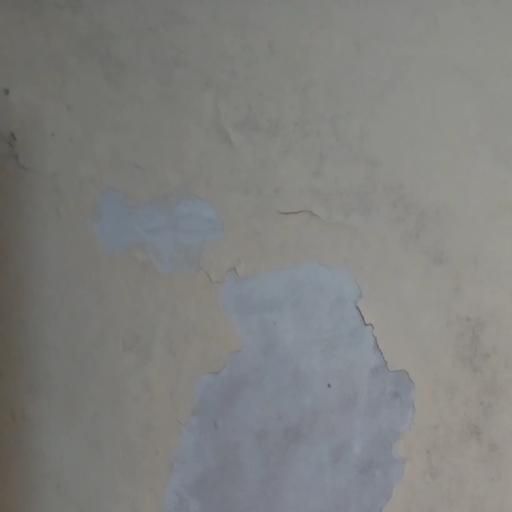peeling: (163, 260, 409, 512), (57, 148, 241, 288)
